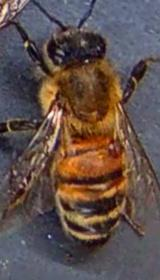varroa_mite: (105, 130, 126, 165)
